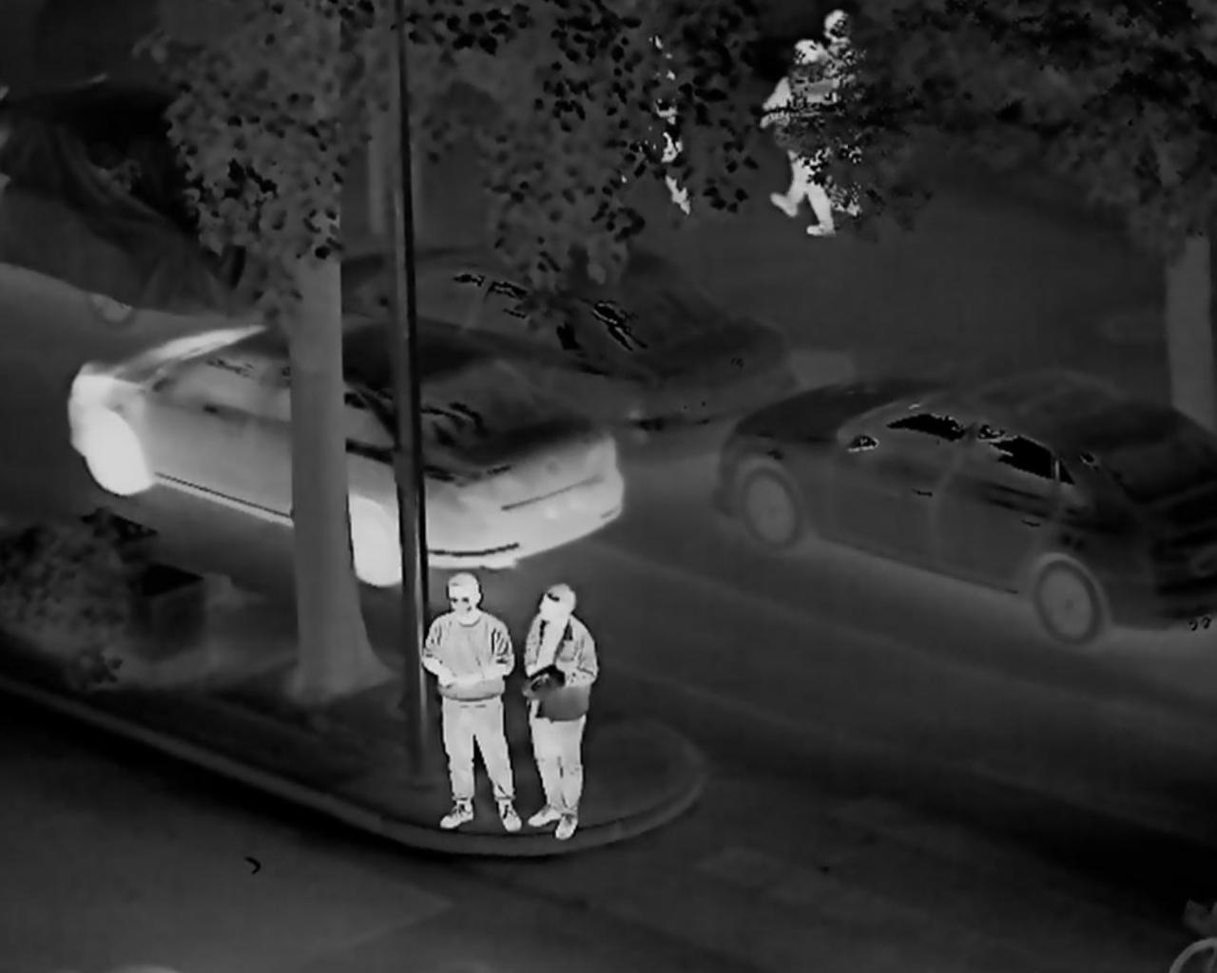person: (400, 565, 530, 836), (518, 585, 601, 838), (757, 46, 845, 242)
